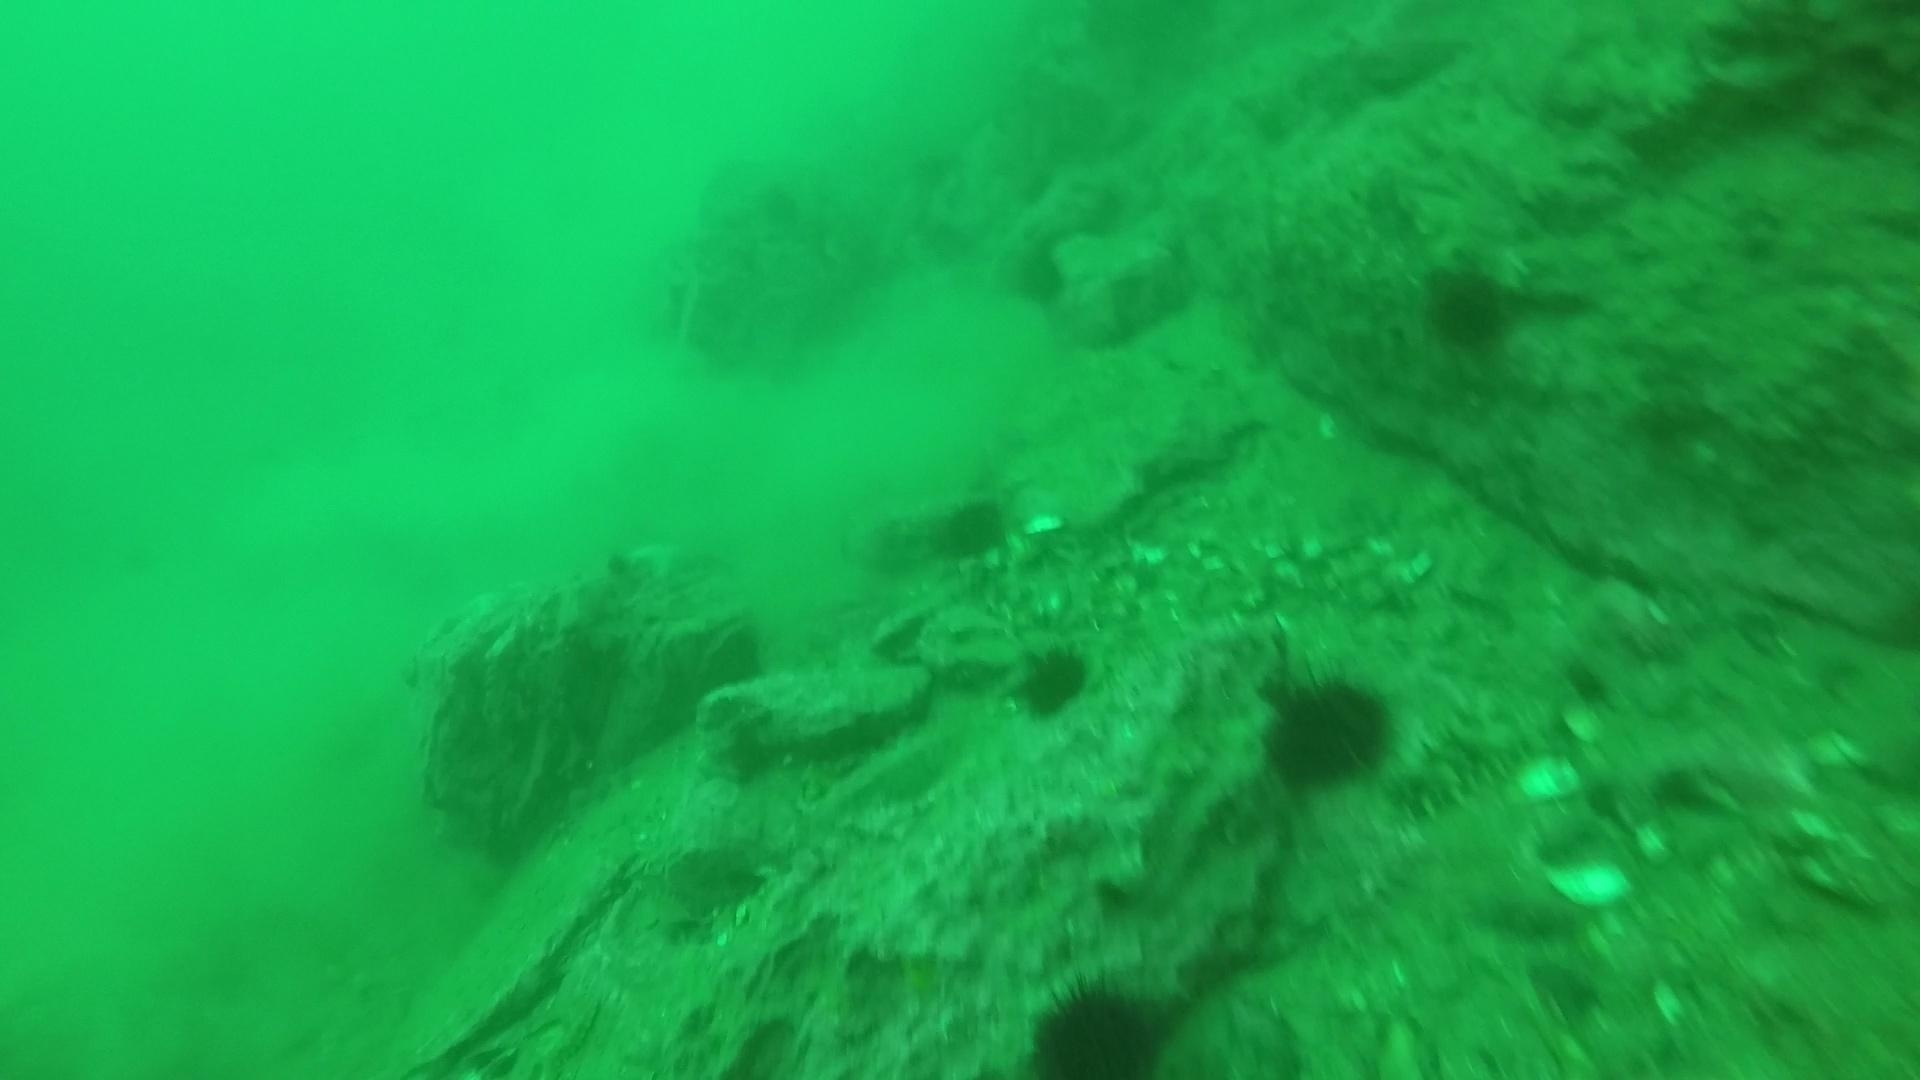echinus: (1254, 665, 1400, 796), (1023, 972, 1176, 1077), (1418, 257, 1518, 355), (922, 487, 1021, 568), (1007, 638, 1098, 725)
holothurian: (1385, 694, 1553, 822)
